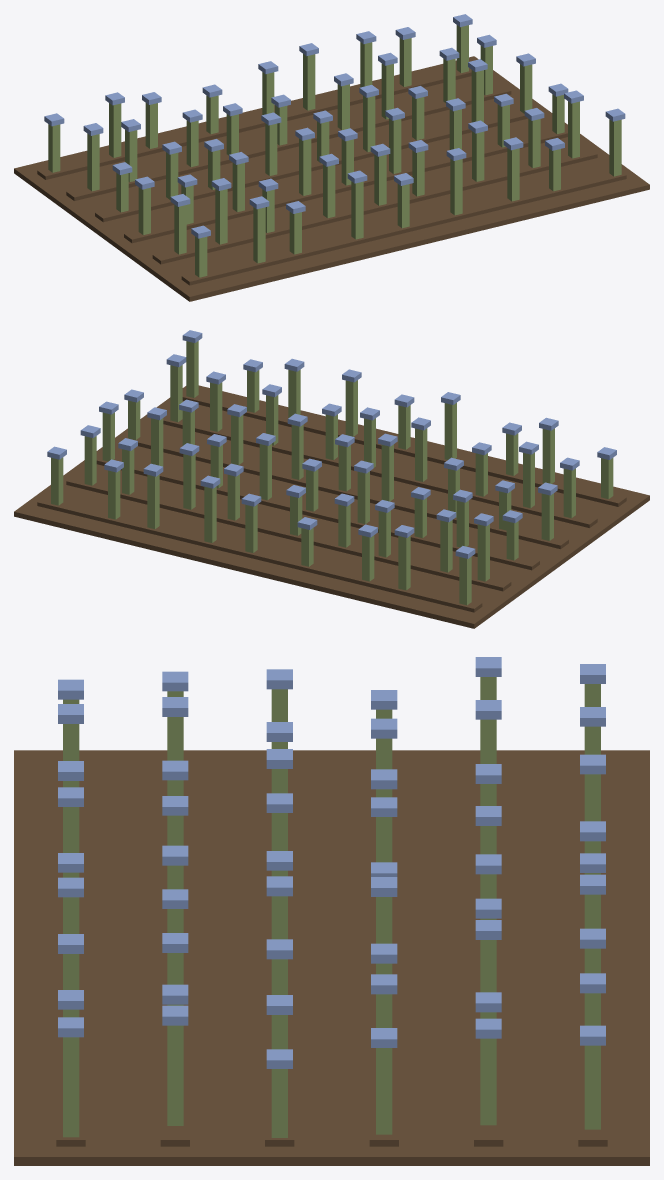
The model's file is flax-patch.glb.
3 views of the same model, one above another, from view 1: azimuth 30°, elevation 25°; view 2: azimuth 150°, elevation 25°; view 3: azimuth 270°, elevation 25° (orthographic). The views are drawn at different scales.
Parts seen in each view (by area): view 1: flax-patch; view 2: flax-patch; view 3: flax-patch.
Boxes of the visible parts, box(x1,y1,x2,y2) form: flax-patch: box(14, 14, 649, 301); flax-patch: box(14, 330, 649, 628); flax-patch: box(14, 657, 649, 1165).
Size of the model in its own units: 5.9 by 0.8698 by 3.9.
